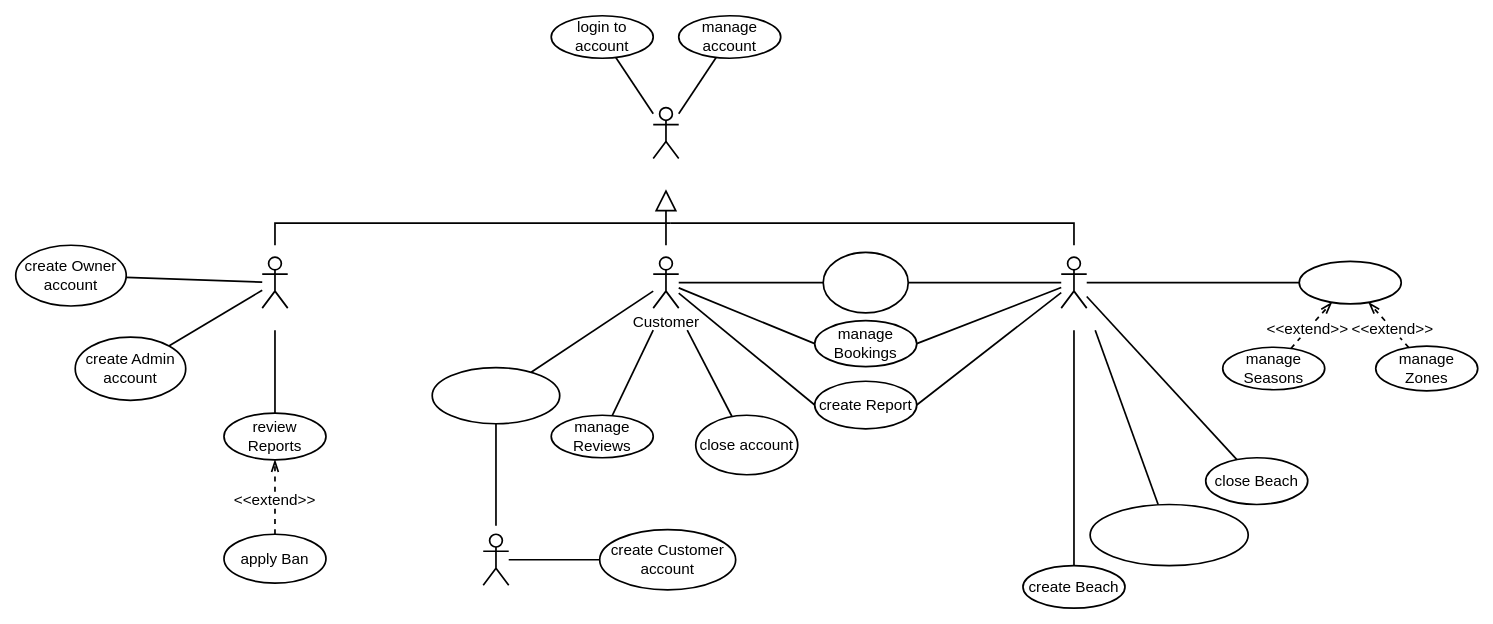
Some shapes in this 1493 by 624 pixel diagram are drawn without their labels. The box of each missing label's shape, as (x1, y1, x2, y2) in pixels:
activate/deactivate Beach: (1089, 503, 1249, 566)
Admin: (261, 256, 288, 309)
browse active Beaches: (431, 366, 560, 424)
create Booking: (822, 251, 909, 313)
Guest: (482, 533, 509, 586)
manage Beach: (1298, 260, 1402, 304)
Owner: (1060, 256, 1087, 309)
User: (652, 106, 679, 159)
